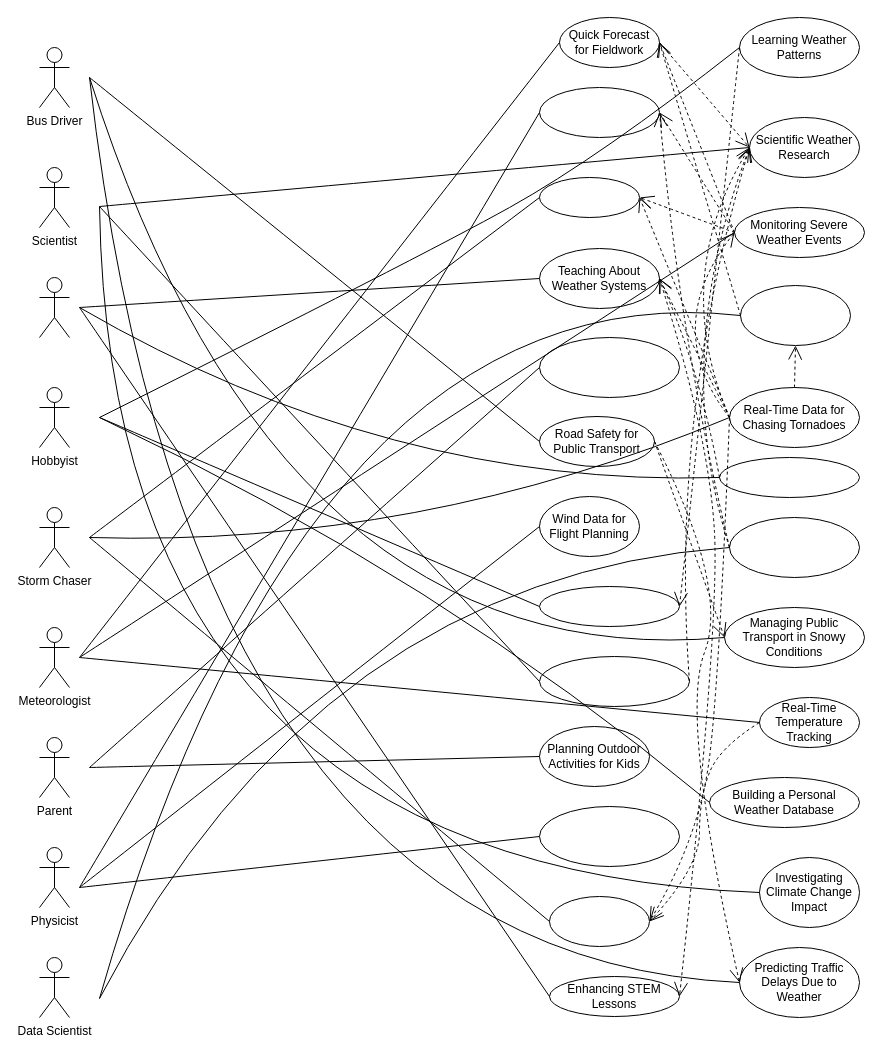
This 882x1056 diagram has some shape labels left out. The box of each missing label's shape, as (x1, y1, x2, y2) in pixels:
Checking Weather for School Drop-Off: (538, 336, 680, 398)
Classroom Demonstration Tool: (718, 456, 860, 498)
Comparing Weather Conditions: (538, 586, 680, 626)
Data Analysis for Predictions: (740, 284, 850, 346)
Data for Climate Study: (538, 86, 660, 138)
Enhancing AI Models with Weather Data: (728, 516, 860, 578)
Locating Thunderstorm Hotspots: (548, 896, 650, 946)
Storm Path Tracking: (538, 176, 640, 218)
Studying the Effects of Rainfall: (538, 656, 690, 706)
Teacher: (38, 276, 70, 338)
Using Weather Data for Academic Research: (538, 806, 680, 866)
